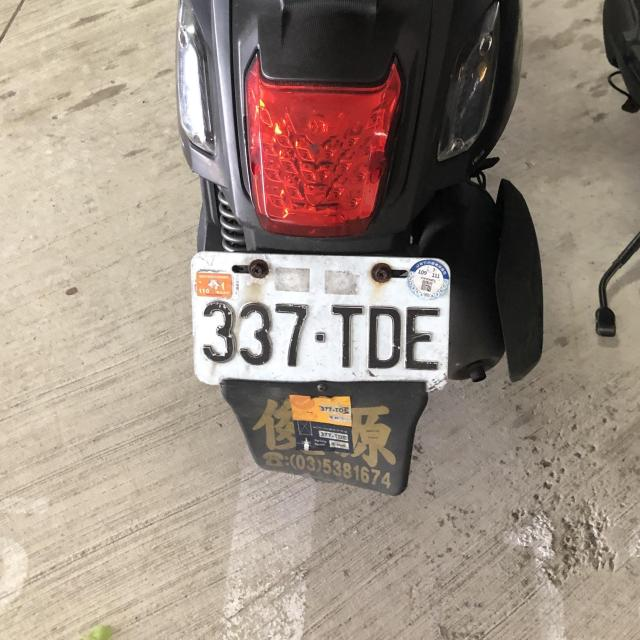W: (182, 243, 456, 394)
